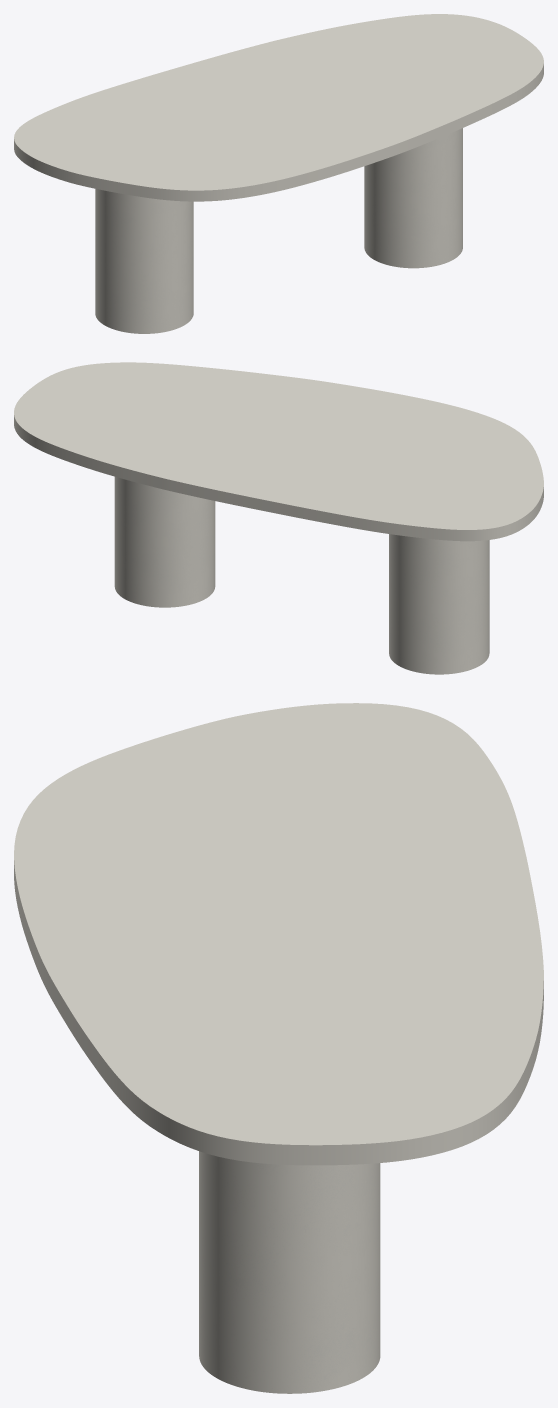
File: pale_leaf2_standard_stream.glb
3 renders of one model, top to bottom at view 1: azimuth 30°, elevation 25°; view 2: azimuth 150°, elevation 25°; view 3: azimuth 270°, elevation 25°, orthographic. The views are drawn at different scales.
Parts seen in each view (by area): view 1: standard_leaf2, stream; view 2: standard_leaf2, stream; view 3: standard_leaf2, stream.
Boxes of the visible parts, <box> form: standard_leaf2: <box>14,14,543,201</box>; stream: <box>95,128,462,333</box>; standard_leaf2: <box>14,362,543,541</box>; stream: <box>114,476,489,674</box>; standard_leaf2: <box>14,703,543,1165</box>; stream: <box>199,1151,380,1393</box>.
Bounding box in the file's own units: 7.5 × 2.52 × 3.8.
Materials: 1 (1 with a texture image).
